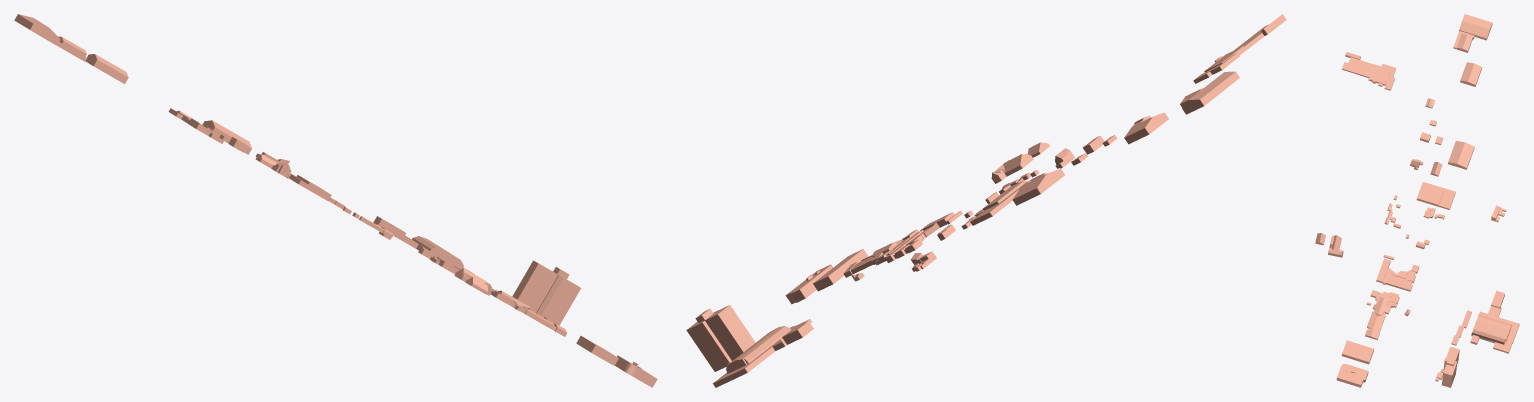
3 renders of one model, left to right at view 1: azimuth 30°, elevation 25°; view 2: azimuth 150°, elevation 25°; view 3: azimuth 270°, elevation 25°, orthographic. The views are drawn at different scales.
Bounding box in the file's own units: 433 × 323 × 255.
